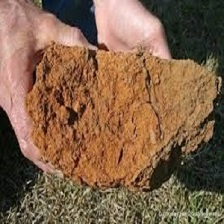clay_soil: (25, 41, 214, 179)
